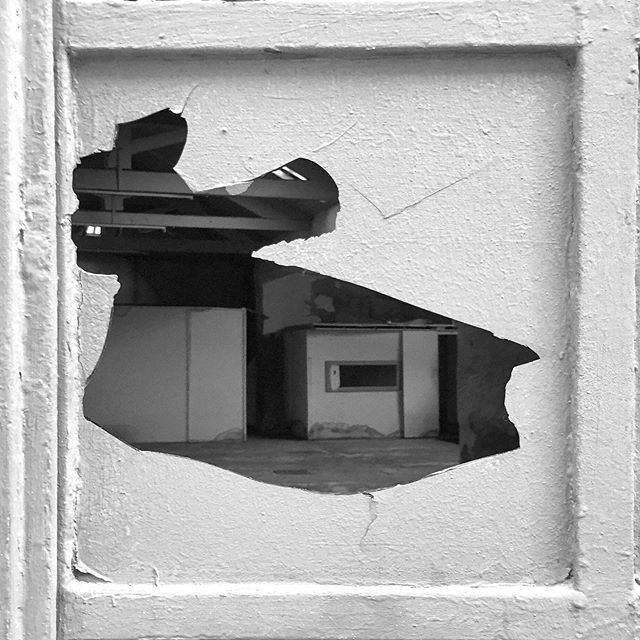window: (41, 36, 564, 593)
